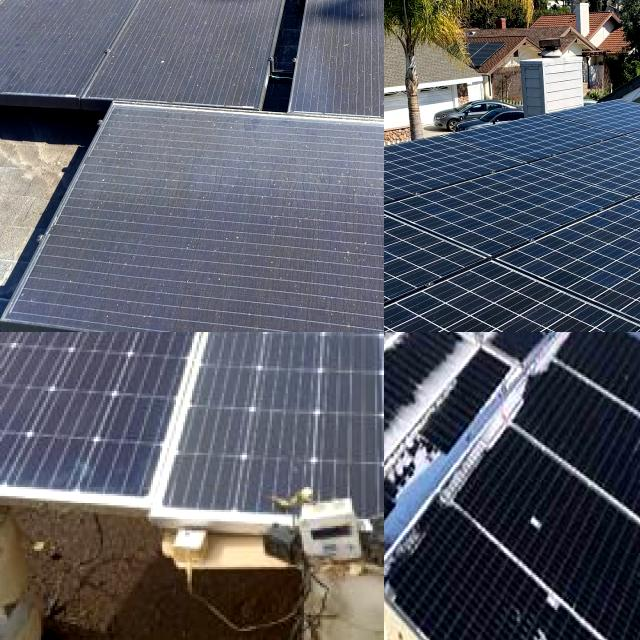dust: (118, 112, 384, 332), (219, 398, 384, 513), (0, 332, 182, 435), (146, 0, 273, 74), (33, 0, 123, 80), (249, 332, 384, 380), (320, 0, 384, 99)
panel: (384, 335, 461, 517), (494, 567, 622, 640), (520, 484, 568, 552), (491, 332, 579, 369), (416, 332, 479, 375), (384, 332, 440, 368)
